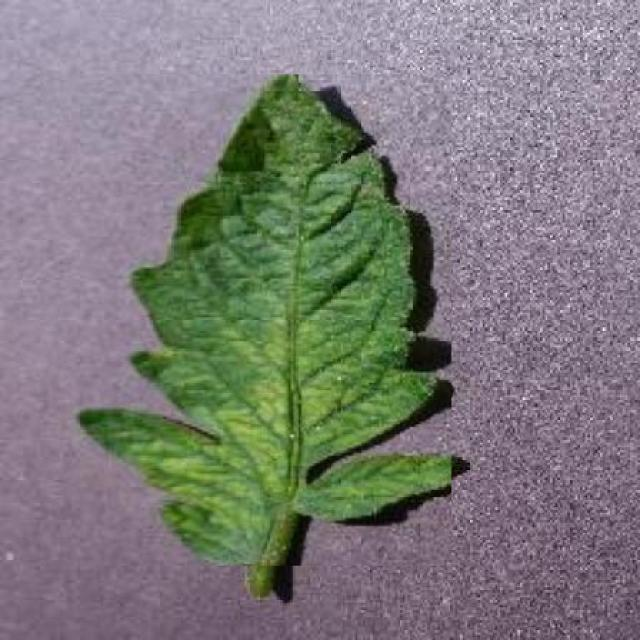Mosaic Virus: (71, 75, 452, 565)
